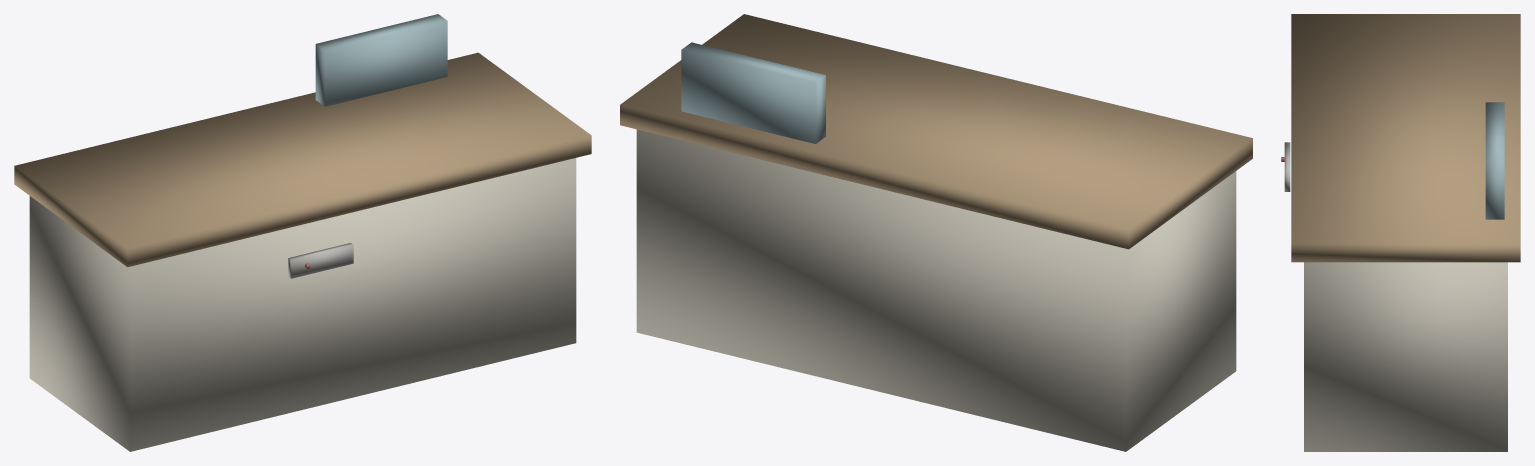
Rendered from post_office_counter__deep.glb.
3 renders of one model, left to right at view 1: azimuth 30°, elevation 25°; view 2: azimuth 150°, elevation 25°; view 3: azimuth 270°, elevation 25°, orthographic. The views are drawn at different scales.
Parts seen in each view (by area): view 1: world; view 2: world; view 3: world.
Part boxes in pixels (<box>): world: <box>14,14,591,451</box>; world: <box>620,14,1252,451</box>; world: <box>1281,14,1520,451</box>.
Size of the model in its own units: 2.08 by 1.14 by 0.9162.
